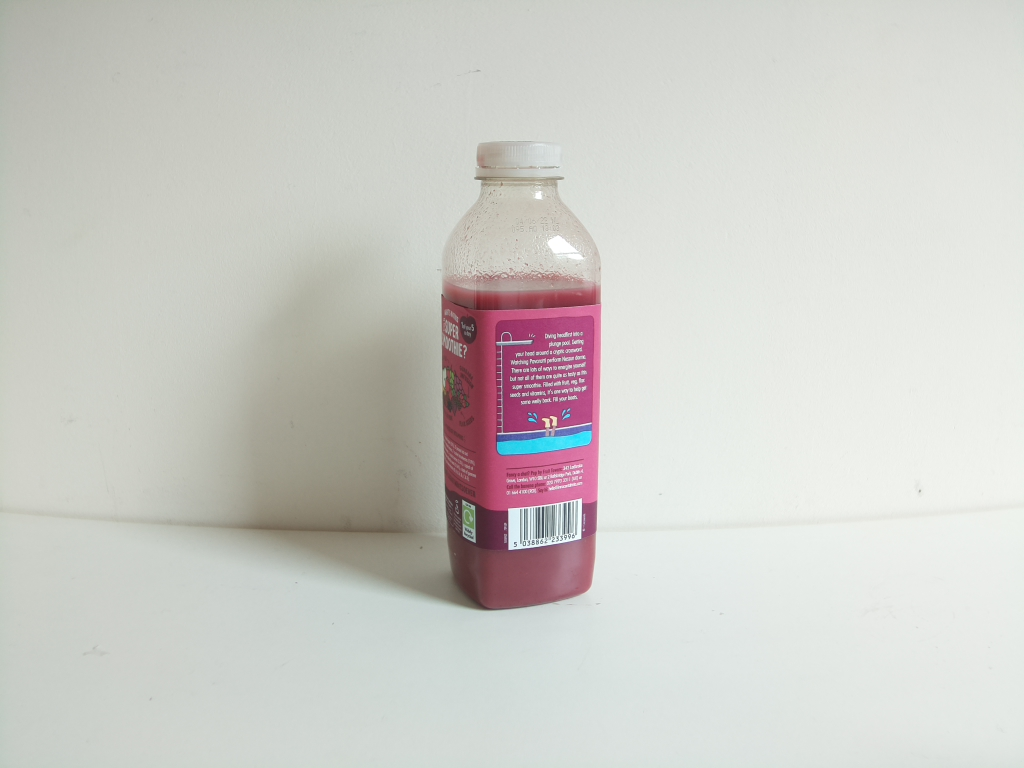juice: (436, 133, 610, 612)
